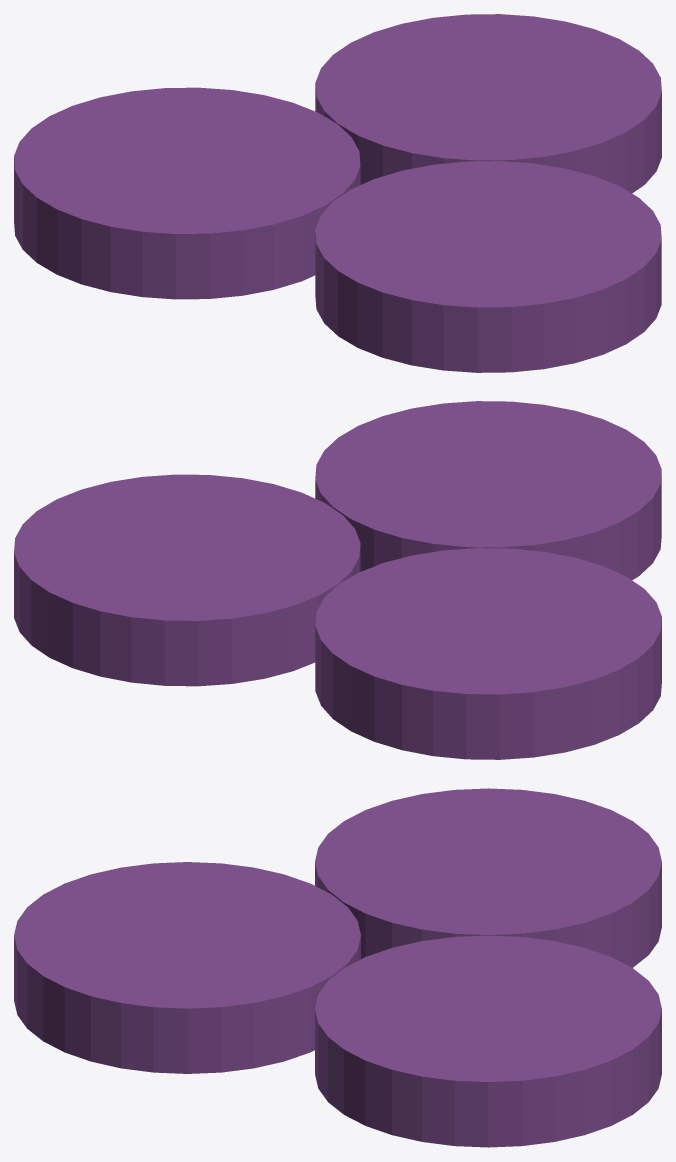
Rendered from GrapeSlice_Visual.fbx.
3 renders of one model, top to bottom at view 1: azimuth 30°, elevation 25°; view 2: azimuth 150°, elevation 25°; view 3: azimuth 270°, elevation 25°, orthographic.
Parts seen in each view (by area): view 1: Grape_slice.002, Grape_slice.001, Grape_slice; view 2: Grape_slice.001, Grape_slice, Grape_slice.002; view 3: Grape_slice, Grape_slice.002, Grape_slice.001.
Boxes of the visible parts, x1,y1,x2,y2 form: Grape_slice.002: (315, 161, 661, 372); Grape_slice.001: (14, 87, 360, 299); Grape_slice: (315, 14, 661, 193); Grape_slice.001: (315, 548, 661, 759); Grape_slice: (14, 474, 360, 686); Grape_slice.002: (315, 401, 661, 580); Grape_slice: (315, 935, 661, 1147); Grape_slice.002: (14, 862, 360, 1073); Grape_slice.001: (315, 788, 661, 967).
Bounding box in the file's own units: 400 × 41.55 × 373.
